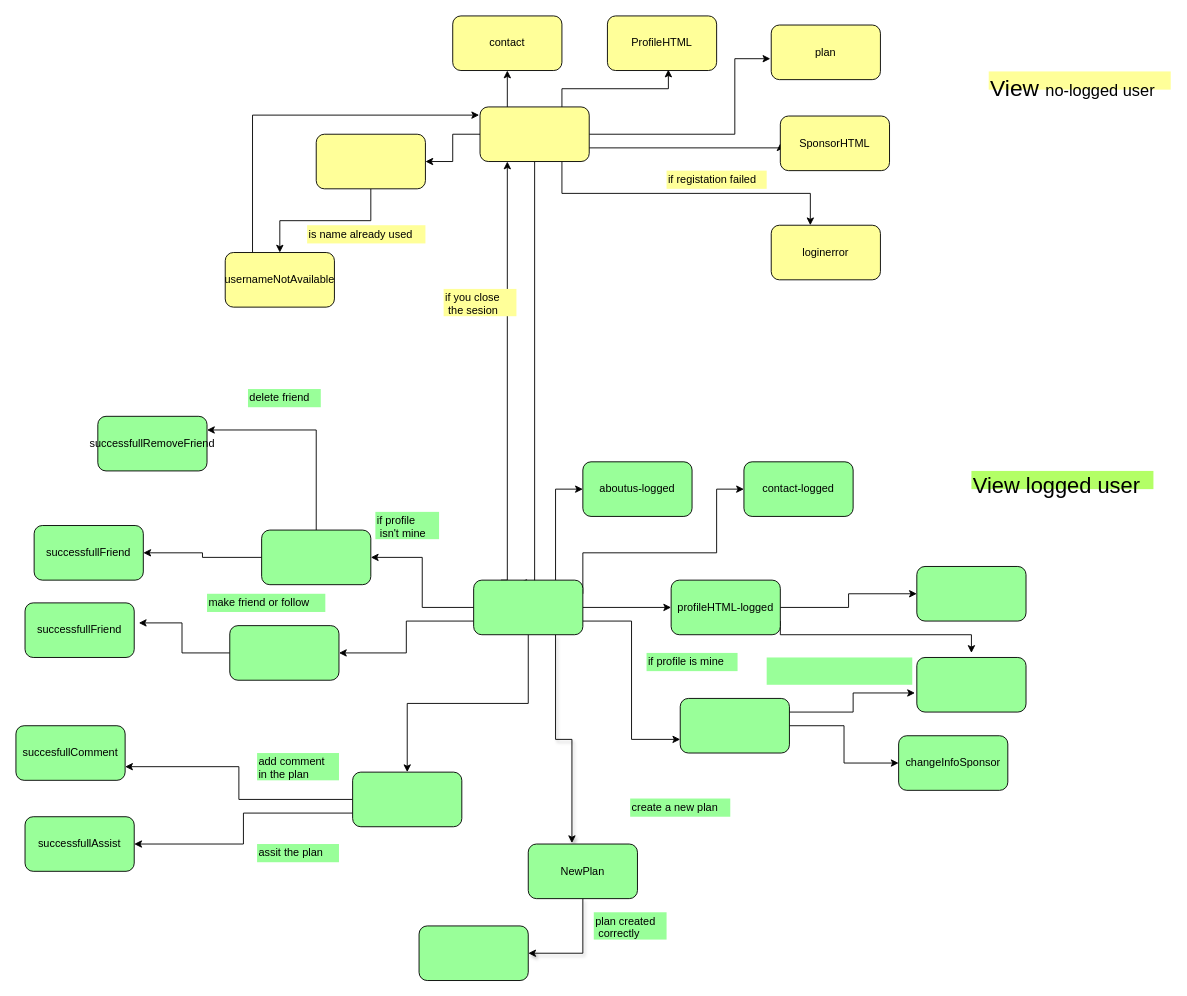
This 1187x996 diagram has some shape labels left out. The centre of each missing label's shape, as x and y in pixels:
changeInfo: the point at 971,593
if i want modify your profile or delete yours plans: the point at 839,670
index: the point at 534,134
index-logged: the point at 528,607
plan-logged: the point at 407,799
profileHTMLView-logged: the point at 316,557
register: the point at 370,161
SponsorHTML-logged: the point at 734,725
SponsorHTMLView-logged: the point at 284,652
successfullPlan: the point at 473,953
successfullRemovePlan: the point at 971,684
